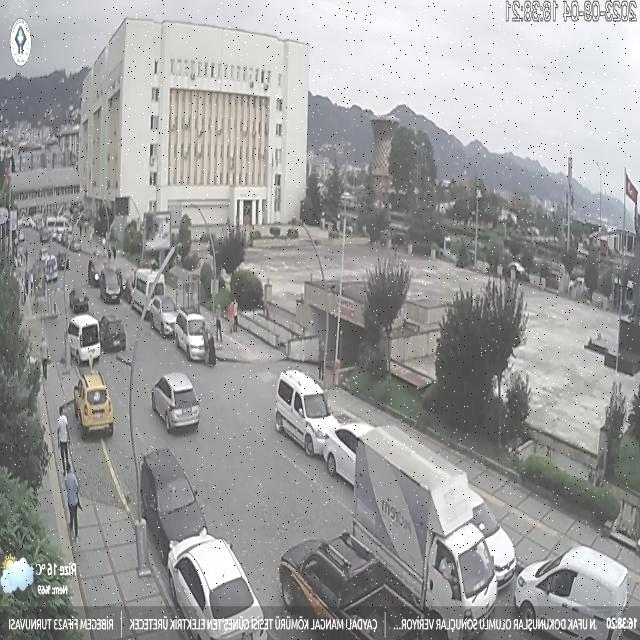Car: (284, 530, 429, 640), (168, 534, 264, 640), (133, 444, 214, 552), (274, 370, 342, 456), (152, 372, 206, 434), (74, 371, 115, 438), (174, 310, 208, 360), (67, 314, 101, 363), (148, 294, 180, 336), (98, 314, 127, 352), (98, 268, 123, 304), (69, 287, 89, 313), (87, 258, 103, 286), (44, 254, 58, 284), (56, 252, 70, 270), (70, 237, 82, 252), (40, 246, 50, 262), (40, 231, 50, 243)
Truck: (329, 423, 508, 583)
Van: (513, 546, 629, 640), (124, 270, 167, 317)
